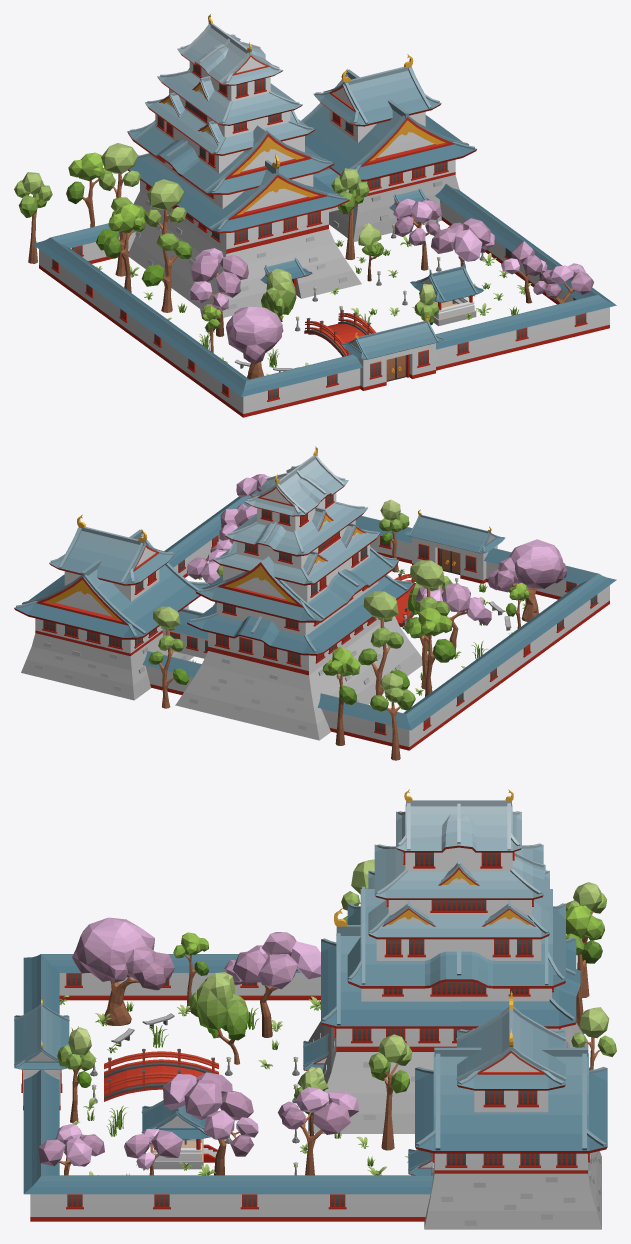
File: imperial_palace.glb
3 renders of one model, top to bottom at view 1: azimuth 30°, elevation 25°; view 2: azimuth 150°, elevation 25°; view 3: azimuth 270°, elevation 25°, orthographic. The views are drawn at different scales.
Visible parts, largest first — view 1: imperial palace 2_38, imperial palace_70, imperia gate_41, imperial fence corner (1)_52, tree 4_79, sakura tree 3_53, sakura tree 6_40, imperial fence corner_74, imperial fence corner (2)_80, japanese gazebo 3_15, tree 4 (1)_60, imperial fence (1)_87 (+21 smaller); view 2: imperial palace 2_38, imperial palace_70, imperia gate_41, imperial fence corner (2)_80, sakura tree 6_40, imperial fence corner (1)_52, tree 4 (1)_60, tree 4_79, sakura tree 3_53, tree 4 (2)_75, tree 7_22, imperial fence (7)_98 (+18 smaller); view 3: imperial palace 2_38, imperial palace_70, sakura tree 6_40, imperial fence corner_74, sakura tree 3_86, imperial fence (2)_76, imperial fence (3)_48, imperial fence (4)_82, sakura tree 3_53, imperia gate_41, japanese bridge_5, imperial fence corner (1)_52 (+20 smaller).
Part boxes in pixels (<box>): imperial palace 2_38: <box>127,14,361,319</box>; imperial palace_70: <box>301,54,476,241</box>; imperia gate_41: <box>341,315,443,390</box>; imperial fence corner (1)_52: <box>205,359,304,417</box>; tree 4_79: <box>141,179,192,312</box>; sakura tree 3_53: <box>189,248,248,336</box>; sakura tree 6_40: <box>226,306,283,379</box>; imperial fence corner_74: <box>546,279,616,342</box>; imperial fence corner (2)_80: <box>32,225,106,292</box>; japanese gazebo 3_15: <box>410,260,483,325</box>; tree 4 (1)_60: <box>96,143,146,276</box>; imperial fence (1)_87: <box>487,307,553,356</box>; imperial palace 2_38: <box>175,446,422,740</box>; imperial palace_70: <box>14,514,209,700</box>; imperia gate_41: <box>404,509,505,583</box>; imperial fence corner (2)_80: <box>349,693,446,750</box>; sakura tree 6_40: <box>488,539,566,621</box>; imperial fence corner (1)_52: <box>543,565,616,627</box>; tree 4 (1)_60: <box>358,591,409,695</box>; tree 4_79: <box>404,560,456,689</box>; sakura tree 3_53: <box>415,583,491,649</box>; tree 4 (2)_75: <box>148,606,189,708</box>; tree 7_22: <box>408,607,451,696</box>; imperial fence (7)_98: <box>491,619,547,676</box>; imperial palace 2_38: <box>303,789,588,1133</box>; imperial palace_70: <box>408,991,607,1229</box>; sakura tree 6_40: <box>72,917,174,1025</box>; imperial fence corner_74: <box>23,1143,118,1221</box>; sakura tree 3_86: <box>163,1072,258,1175</box>; imperial fence (2)_76: <box>118,1175,206,1221</box>; imperial fence (3)_48: <box>206,1175,293,1221</box>; imperial fence (4)_82: <box>294,1175,381,1221</box>; sakura tree 3_53: <box>224,932,320,1037</box>; imperia gate_41: <box>14,997,69,1110</box>; japanese bridge_5: <box>104,1048,218,1101</box>; imperial fence corner (1)_52: <box>23,954,111,1000</box>.
Bounding box in the file's own units: 21.19 × 12.11 × 21.7.
1 material, 1 textured.
